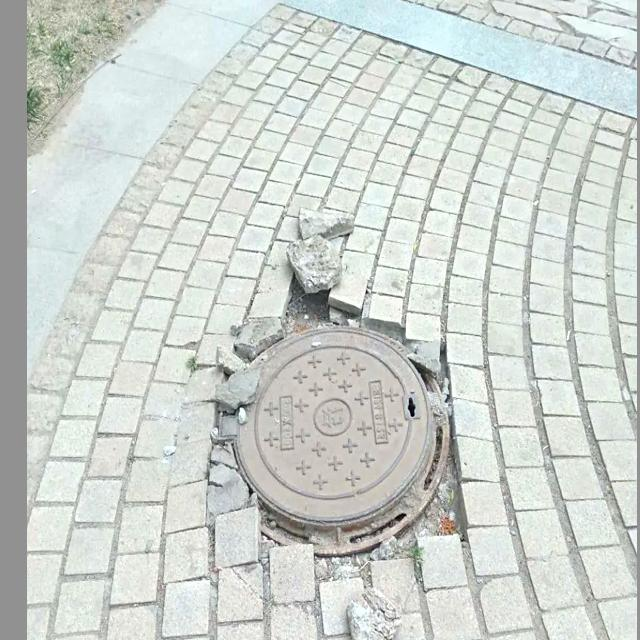circle: (175, 258, 491, 608)
